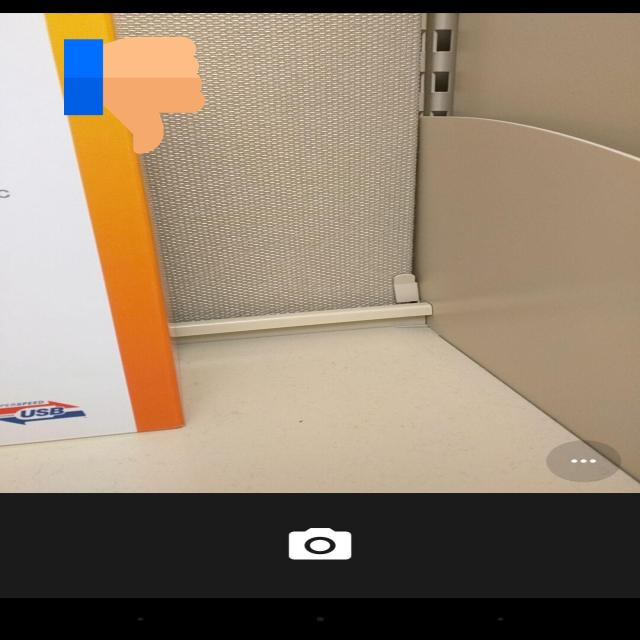obstruction: (64, 34, 205, 157)
